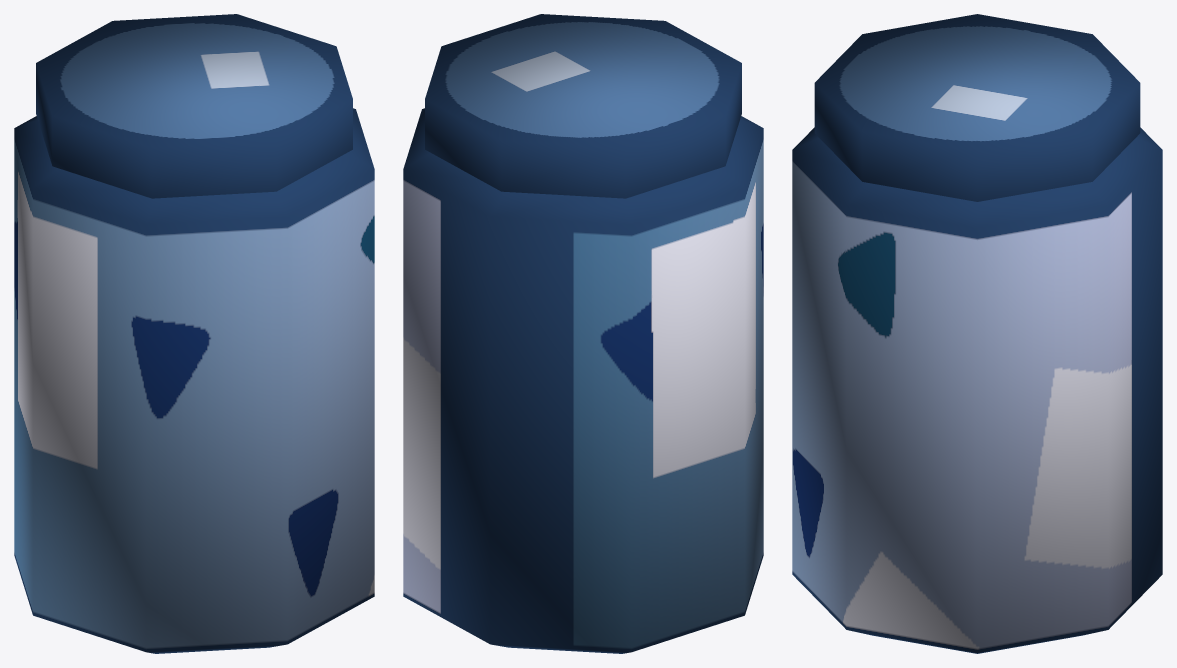
The model's file is Blue Chewing Gum.fbx.
3 renders of one model, left to right at view 1: azimuth 30°, elevation 25°; view 2: azimuth 150°, elevation 25°; view 3: azimuth 270°, elevation 25°, orthographic.
Parts seen in each view (by area): view 1: Cylinder.019; view 2: Cylinder.019; view 3: Cylinder.019.
Part boxes in pixels (x1,y1,x2,y2): Cylinder.019: (14, 14, 374, 653); Cylinder.019: (403, 14, 763, 653); Cylinder.019: (792, 14, 1162, 653).
Size of the model in its own units: 0.1949 by 0.2954 by 0.1949.
